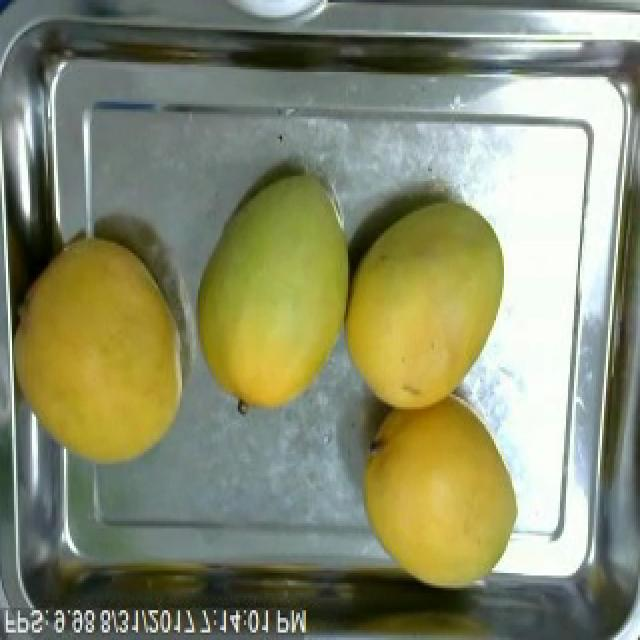fruit: (186, 159, 366, 417), (8, 226, 194, 474), (332, 186, 514, 422), (350, 382, 530, 598)
